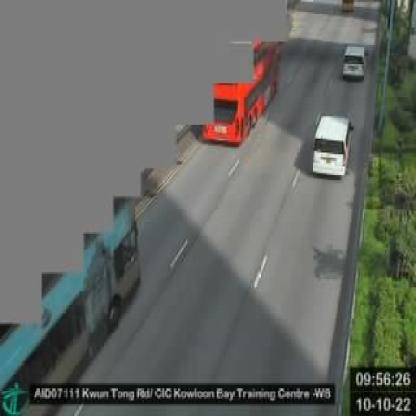Bus: (0, 170, 141, 413), (206, 40, 280, 144)
Car: (311, 113, 351, 178), (344, 42, 367, 80)
